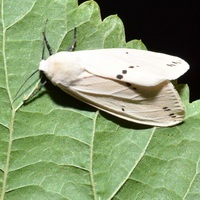insect: (39, 48, 188, 126)
